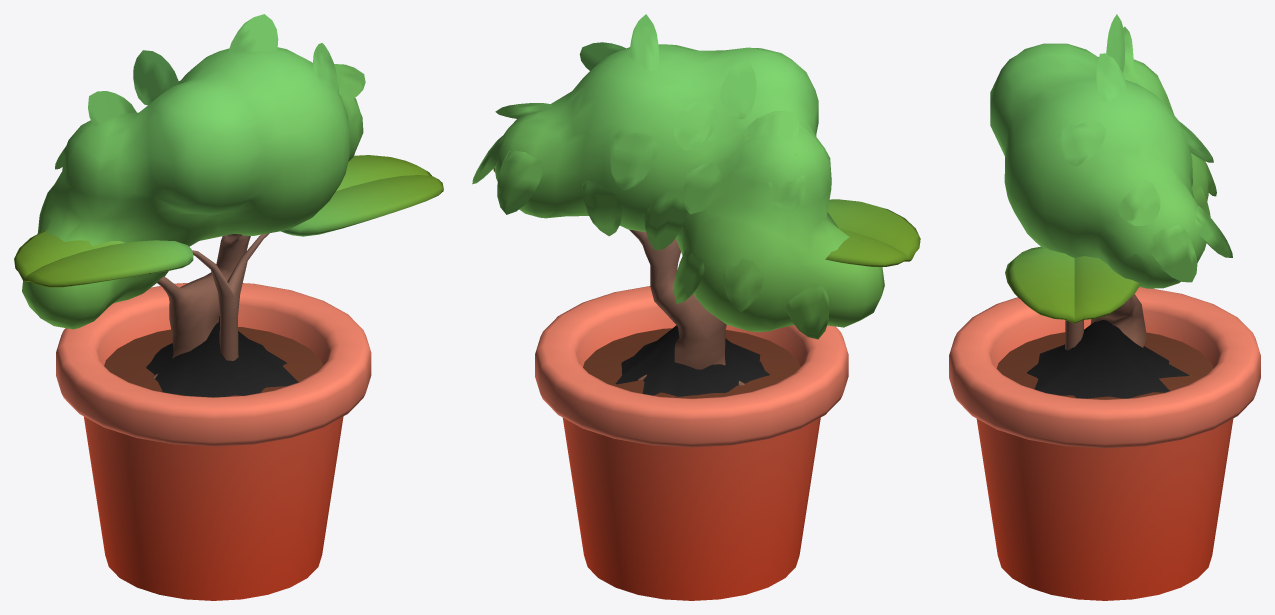
Rendered from PlanteEnsemble.fbx.
3 renders of one model, left to right at view 1: azimuth 30°, elevation 25°; view 2: azimuth 150°, elevation 25°; view 3: azimuth 270°, elevation 25°, orthographic.
Parts seen in each view (by area): view 1: Plante ensemble - pot, treeFoliage, Plante1, cendres, Plante2, terre; view 2: treeFoliage, Plante ensemble - pot, cendres, Plante2, Plante1, terre; view 3: Plante ensemble - pot, treeFoliage, cendres, Plante1, terre, Plante2.
Part boxes in pixels (box(x1,y1,x2,y2)): Plante ensemble - pot: box(56, 283, 371, 600); treeFoliage: box(22, 14, 365, 329); Plante1: box(14, 155, 443, 360); cendres: box(146, 316, 298, 397); Plante2: box(152, 234, 250, 378); terre: box(104, 327, 322, 396); treeFoliage: box(472, 14, 884, 339); Plante ensemble - pot: box(535, 286, 848, 600); cendres: box(615, 325, 769, 396); Plante2: box(629, 229, 744, 385); Plante1: box(493, 168, 920, 266); terre: box(583, 328, 800, 398); Plante ensemble - pot: box(949, 287, 1260, 600); treeFoliage: box(990, 14, 1232, 288); cendres: box(1027, 320, 1189, 398); Plante1: box(1005, 246, 1140, 350); terre: box(996, 332, 1213, 399); Plante2: box(1090, 294, 1146, 347).
Size of the model in its own units: 204 by 251 by 135.
